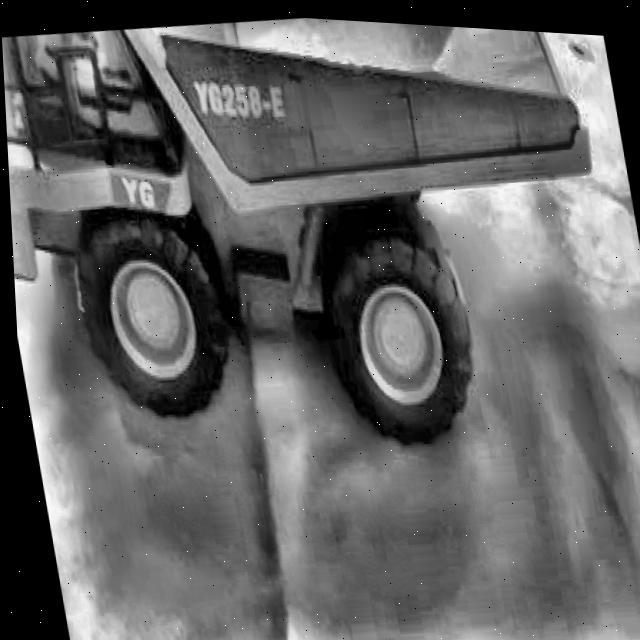dump_truck: (0, 0, 640, 491)
